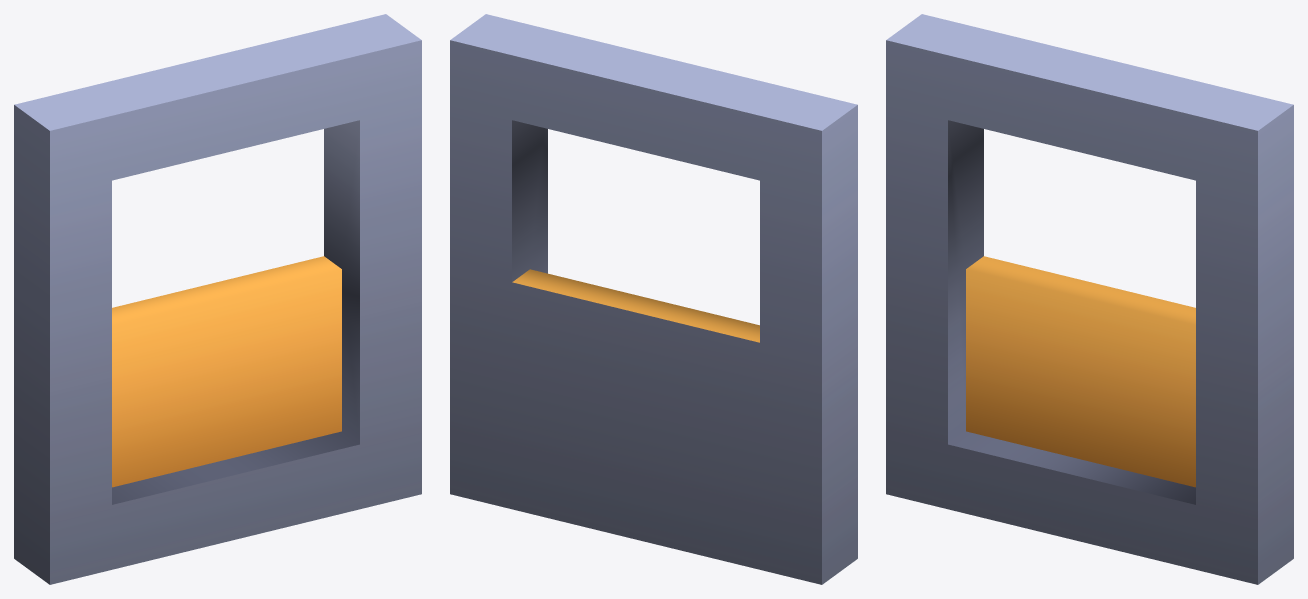
The model's file is kenney-space-station-door-double-half.glb.
The picture shows the model from 3 angles, left to right: view 1: azimuth 30°, elevation 25°; view 2: azimuth 150°, elevation 25°; view 3: azimuth 330°, elevation 25°; orthographic projection.
Visible parts, largest first — view 1: door-double-half; view 2: door-double-half; view 3: door-double-half.
Part boxes in pixels (<box>): door-double-half: <box>14,14,421,584</box>; door-double-half: <box>450,14,857,584</box>; door-double-half: <box>886,14,1293,584</box>.
Size of the model in its own units: 0.6 by 0.7 by 0.1.
1 material, 1 textured.
